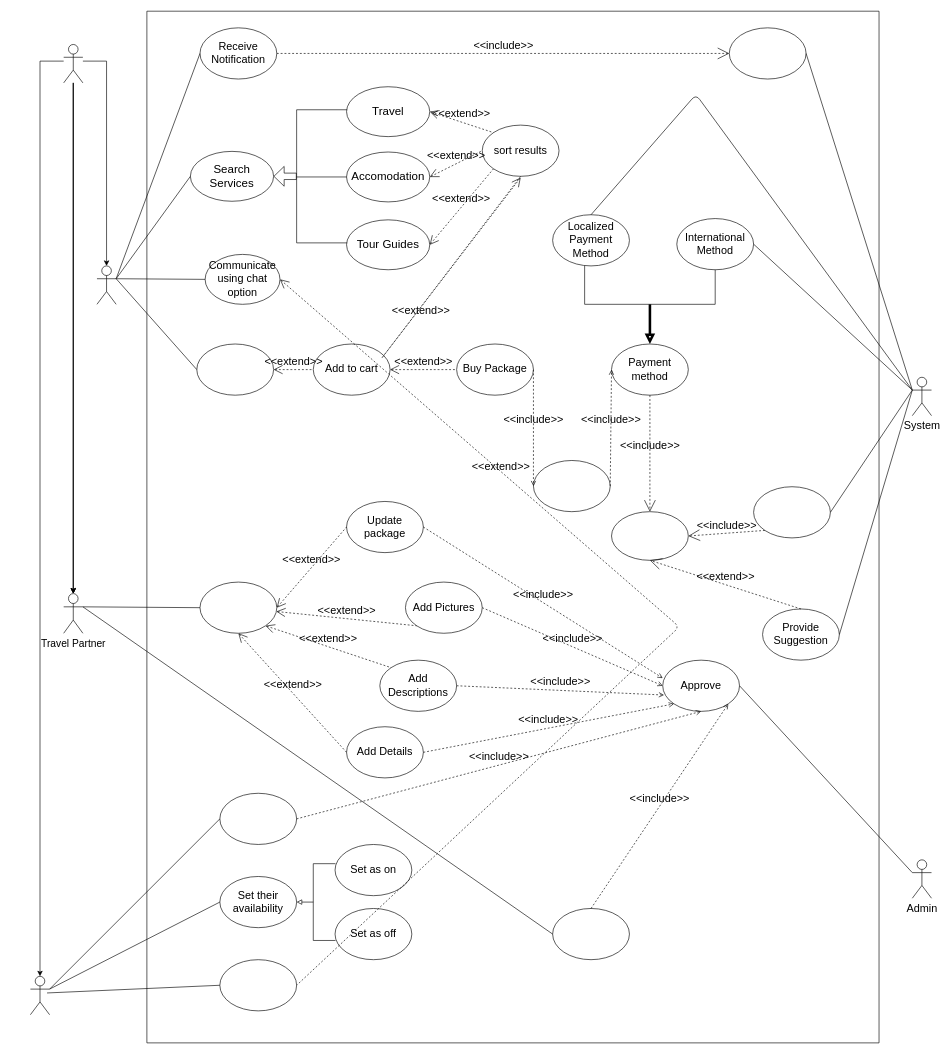
This 951x1054 diagram has some shape labels left out. The shapes that lost their labels are listed below. From the top down, each one's centre as x and y in pixels, then its label:
At (x=73, y=63): "User".
At (x=767, y=53): "Send Notification".
At (x=106, y=284): "Customer /Travel Enthusiast".
At (x=235, y=369): "Bookmark Package".
At (x=571, y=486): "Confirm Payment".
At (x=791, y=512): "Add Device".
At (x=649, y=535): "Provide confirmation".
At (x=238, y=607): "Add Travel packages".
At (x=258, y=818): "Add travel guidance plan".
At (x=590, y=934): "Create Combo Offers".
At (x=40, y=995): "Travel Guide".
At (x=258, y=985): "Respond to customer".
